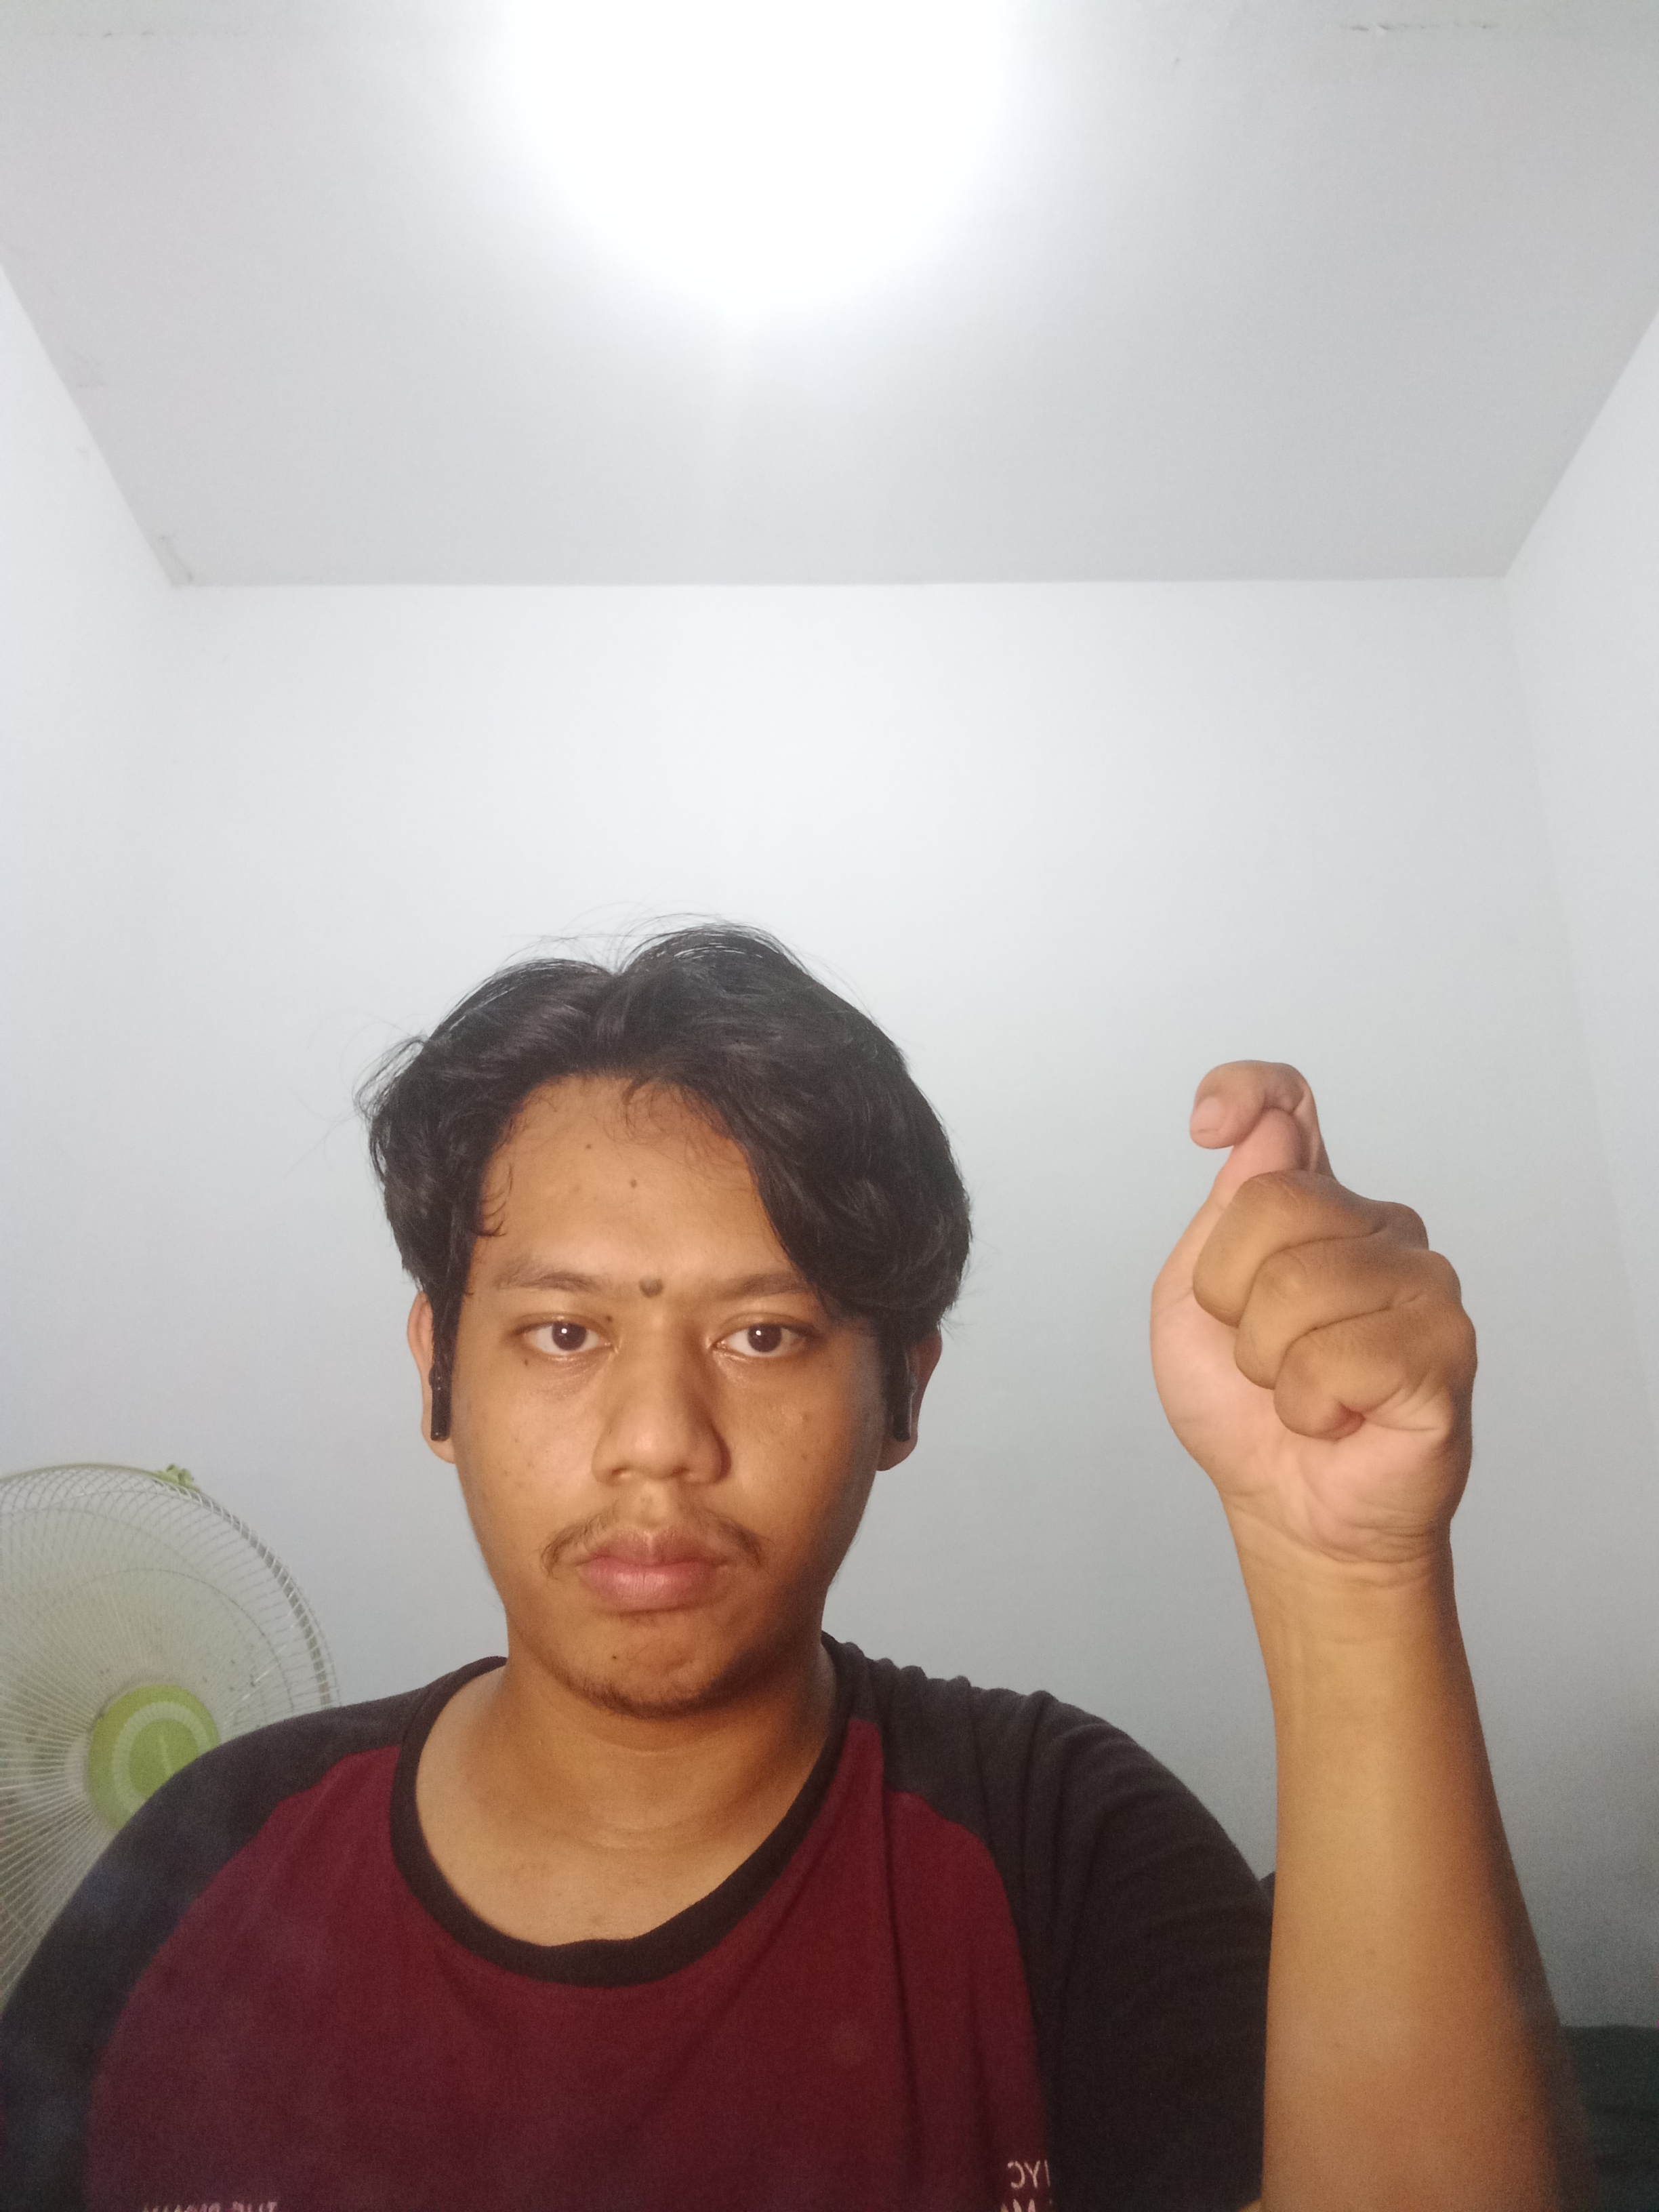T: (1133, 1038, 1495, 1580)
